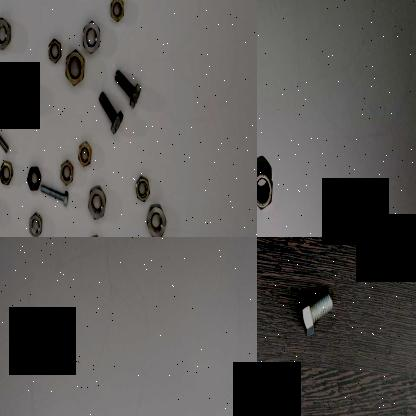Bolts: (298, 278, 332, 340), (96, 89, 124, 138), (115, 66, 142, 114), (37, 178, 70, 210), (0, 113, 11, 157)
NUTS: (257, 179, 282, 219), (64, 47, 85, 90), (80, 18, 103, 55), (257, 164, 274, 214), (146, 203, 168, 237), (16, 81, 38, 115), (88, 186, 108, 223), (132, 176, 152, 204), (58, 158, 76, 188), (26, 163, 42, 193), (46, 36, 63, 64), (0, 16, 13, 52), (76, 140, 92, 168), (0, 157, 13, 188), (109, 0, 125, 24), (28, 210, 42, 237)
